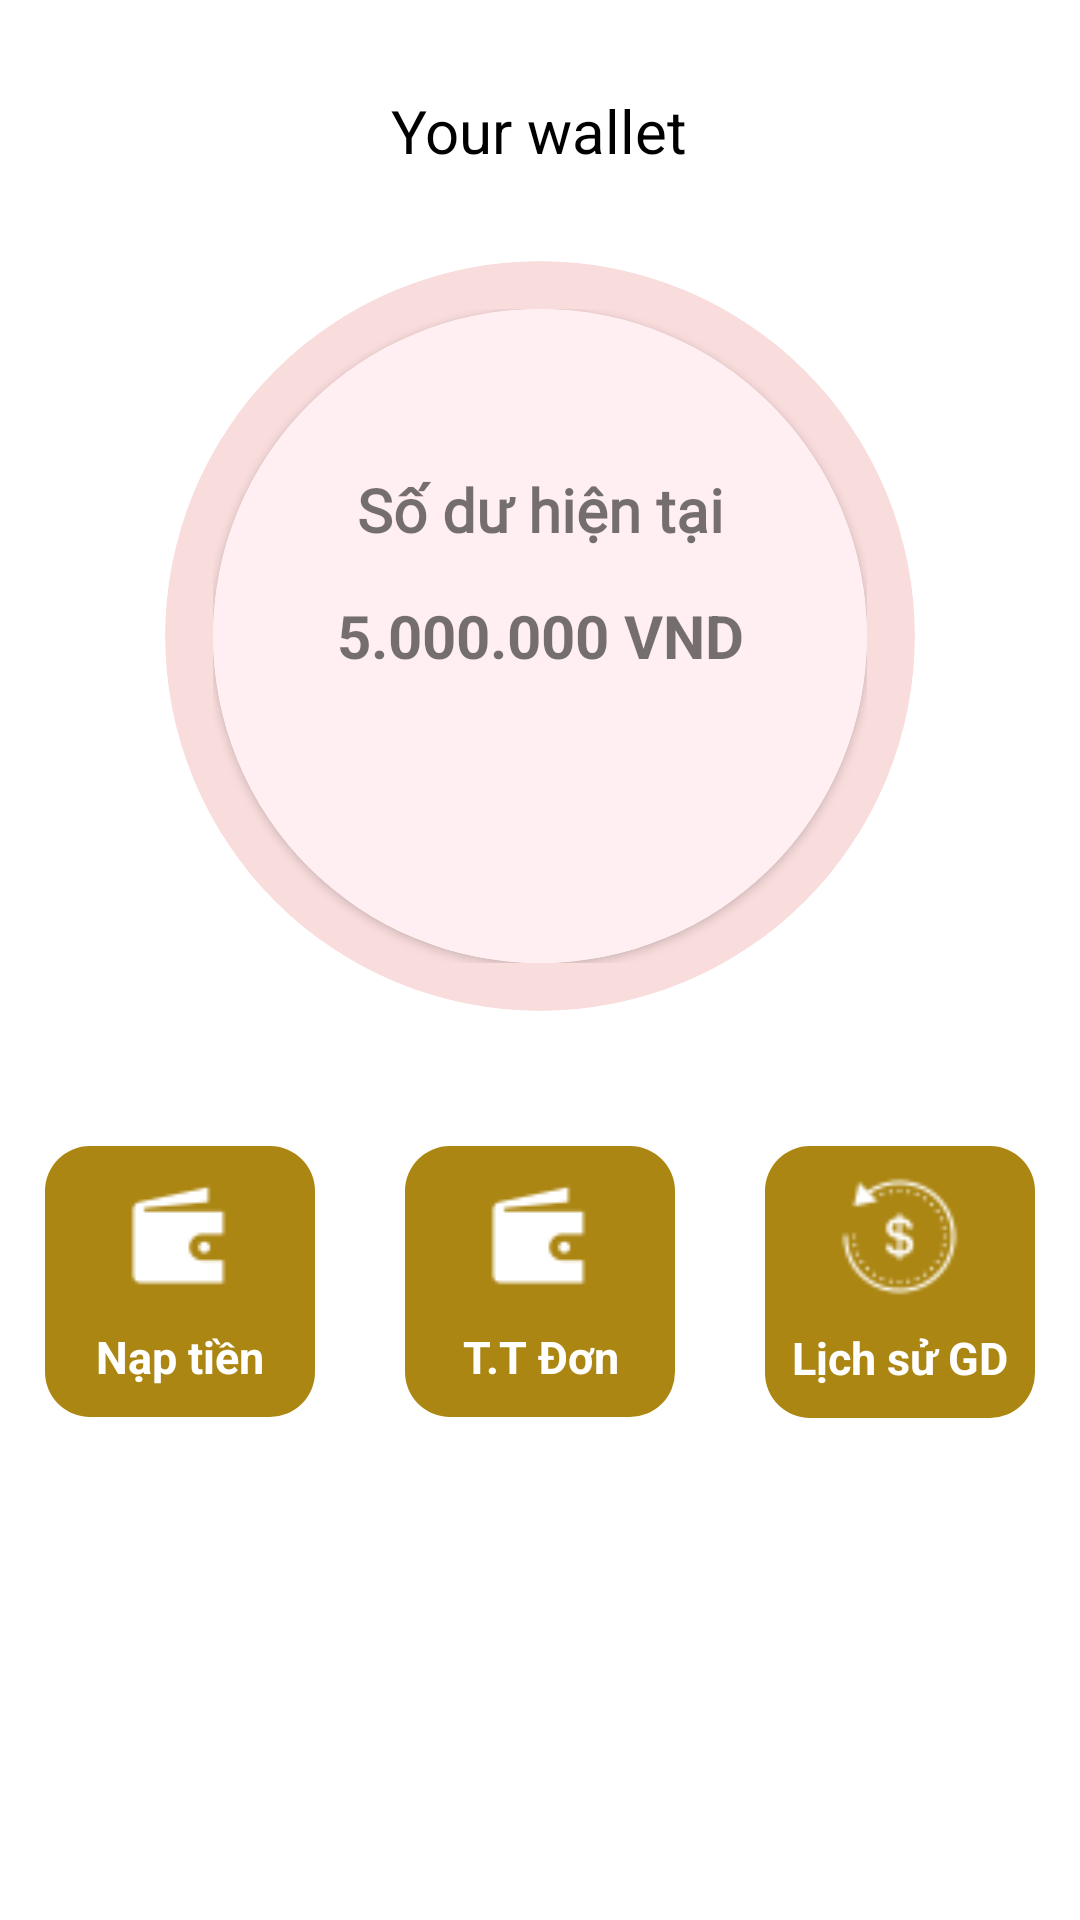

Icon bounding boxes for this 1080w x 1920h phone screenshot, format (left=x1, top=y1, right=x2, bottom=y2):
history: (left=841, top=1178, right=958, bottom=1295)
wallet: (left=131, top=1187, right=226, bottom=1285), (left=491, top=1187, right=586, bottom=1285)
